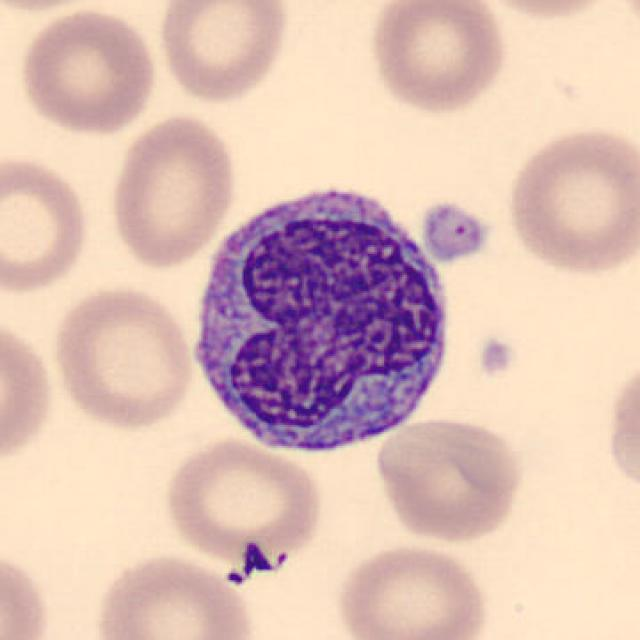Monocyte: (179, 168, 457, 467)
Platelets: (418, 198, 494, 266), (475, 332, 517, 382)
RBC: (48, 282, 197, 432), (158, 434, 327, 566), (105, 110, 240, 272), (502, 120, 638, 278), (372, 412, 526, 544), (14, 6, 160, 138), (364, 0, 511, 116), (332, 539, 492, 640), (89, 550, 259, 640), (153, 0, 293, 106), (0, 150, 94, 298), (0, 310, 57, 478), (602, 350, 640, 504), (0, 543, 53, 640), (470, 0, 628, 21)
